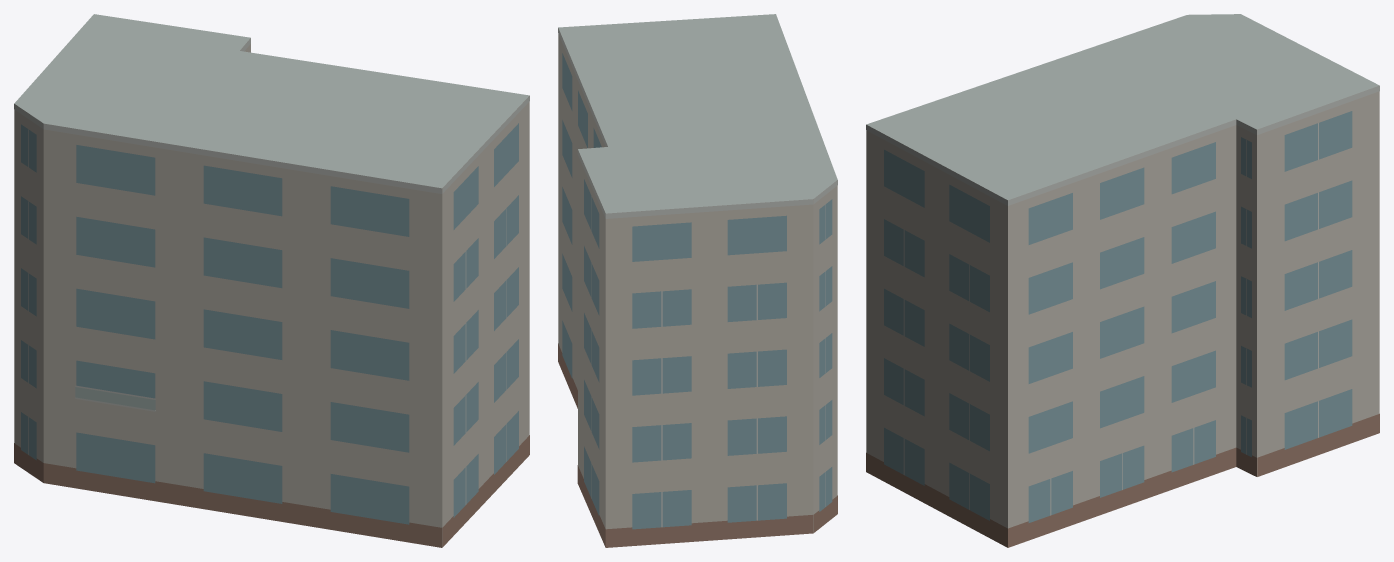
File: survey-upis-32916007.glb
The picture shows the model from 3 angles, left to right: view 1: azimuth 30°, elevation 25°; view 2: azimuth 150°, elevation 25°; view 3: azimuth 270°, elevation 25°; orthographic projection. The views are drawn at different scales.
Visible parts, largest first — view 1: survey-upis-32916007.tmp; view 2: survey-upis-32916007.tmp; view 3: survey-upis-32916007.tmp.
Part boxes in pixels (<box>): survey-upis-32916007.tmp: <box>14,14,529,547</box>; survey-upis-32916007.tmp: <box>558,14,837,547</box>; survey-upis-32916007.tmp: <box>866,14,1379,547</box>.
Bounding box in the file's own units: 17.29 × 15.02 × 20.13.
